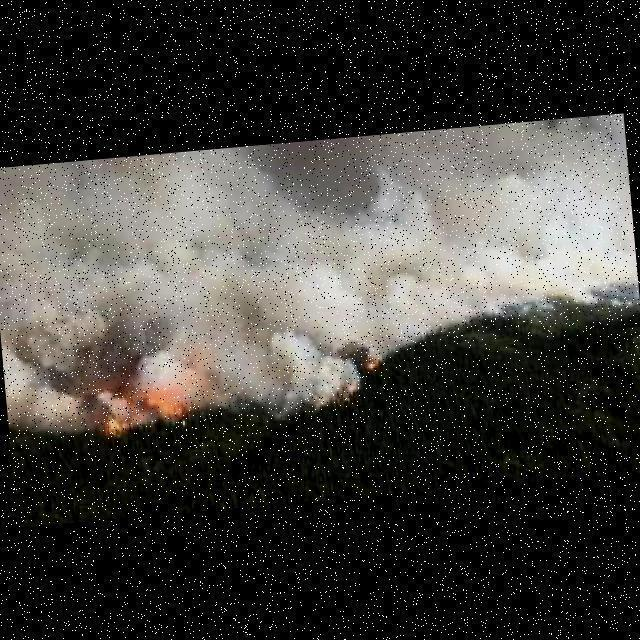Fire: (98, 394, 182, 438)
